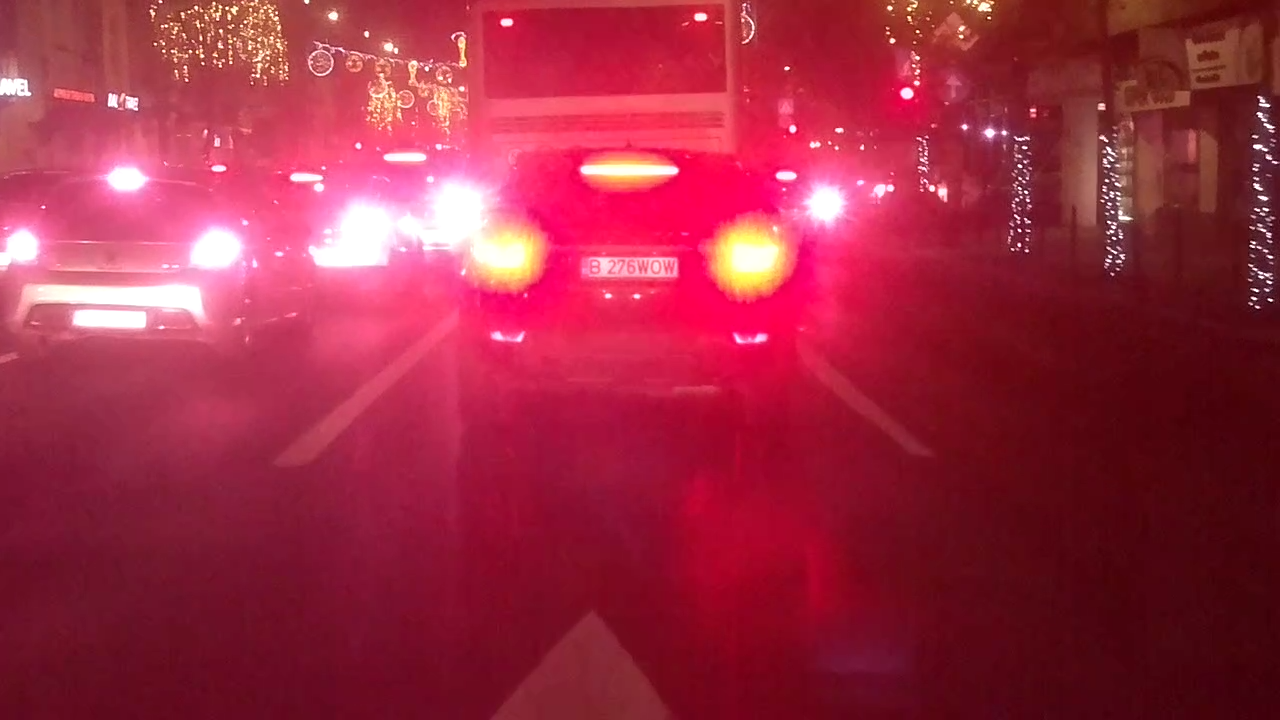license-plate: (574, 251, 683, 282)
